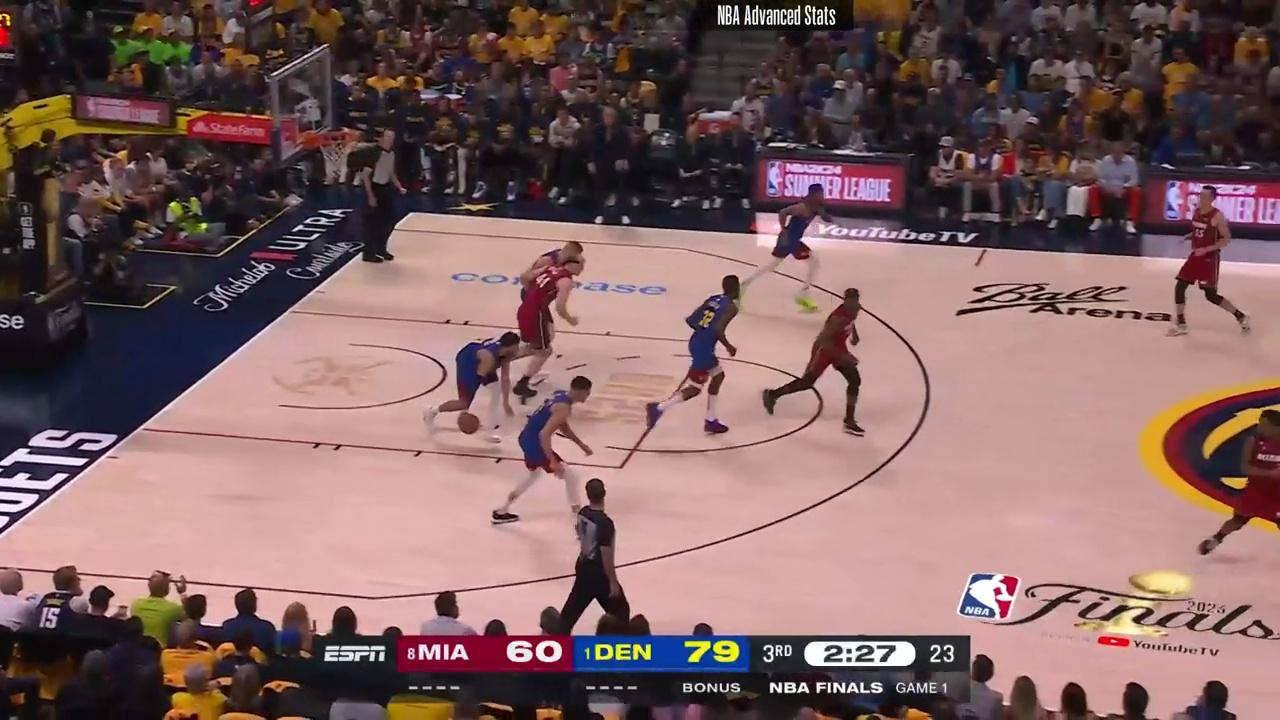Backboard: (288, 47, 351, 164)
Ball: (458, 413, 480, 435)
Basket: (314, 127, 364, 178)
Person: (641, 279, 740, 451), (1184, 409, 1280, 586), (502, 357, 591, 540), (770, 285, 872, 437), (734, 186, 826, 322), (422, 333, 523, 446), (496, 234, 578, 370), (1177, 182, 1239, 336)
Referee: (560, 477, 635, 632), (356, 131, 422, 269)
Shot Clock: (0, 6, 42, 85)
